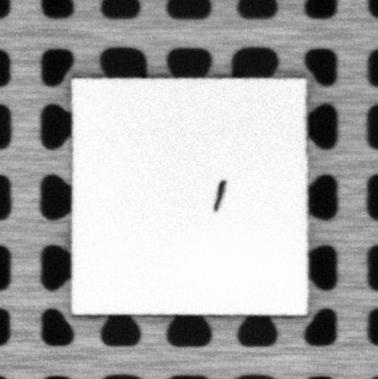DIE_INK: (211, 179, 226, 212)
